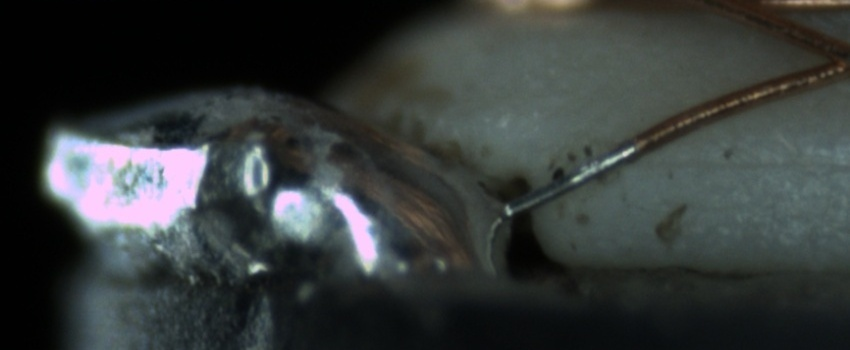CL: (795, 27, 849, 87)
DL: (633, 130, 849, 198)
TS: (504, 139, 637, 214)
